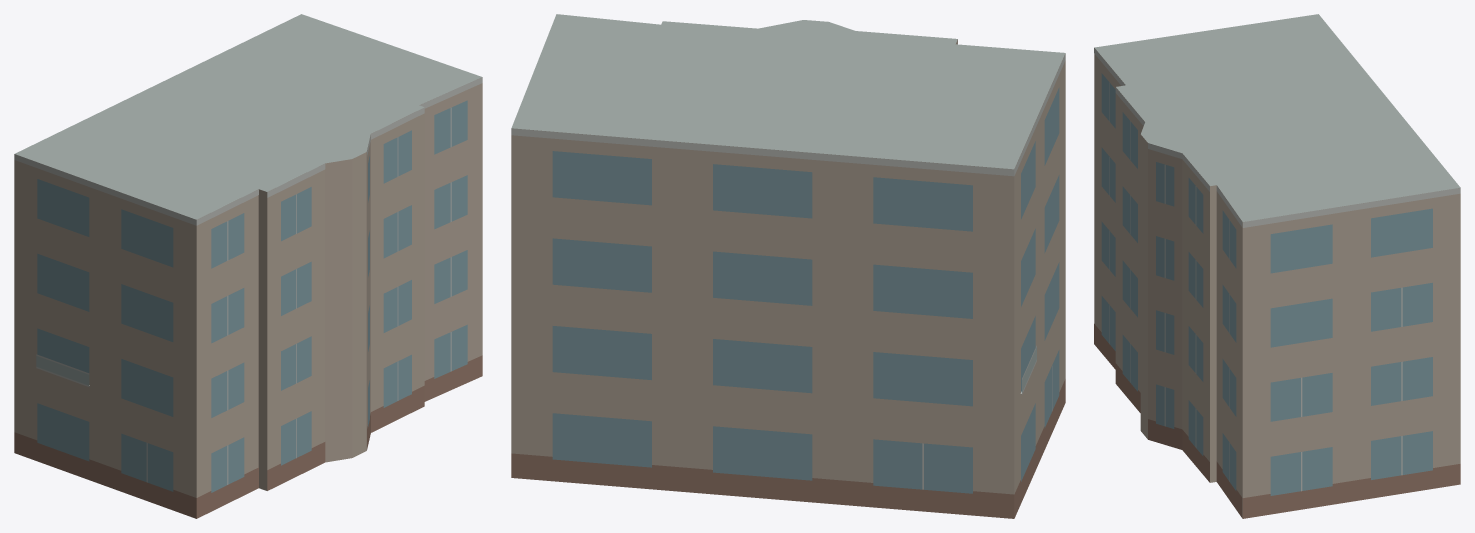
The model's file is survey-upis-32977208.glb.
3 renders of one model, left to right at view 1: azimuth 30°, elevation 25°; view 2: azimuth 150°, elevation 25°; view 3: azimuth 270°, elevation 25°, orthographic. The views are drawn at different scales.
Parts seen in each view (by area): view 1: survey-upis-32977208.tmp; view 2: survey-upis-32977208.tmp; view 3: survey-upis-32977208.tmp.
Part boxes in pixels (x1,y1,x2,y2): survey-upis-32977208.tmp: (14, 14, 482, 518); survey-upis-32977208.tmp: (511, 14, 1065, 518); survey-upis-32977208.tmp: (1094, 14, 1460, 518).
Size of the model in its own units: 18.36 by 12.2 by 13.66.
